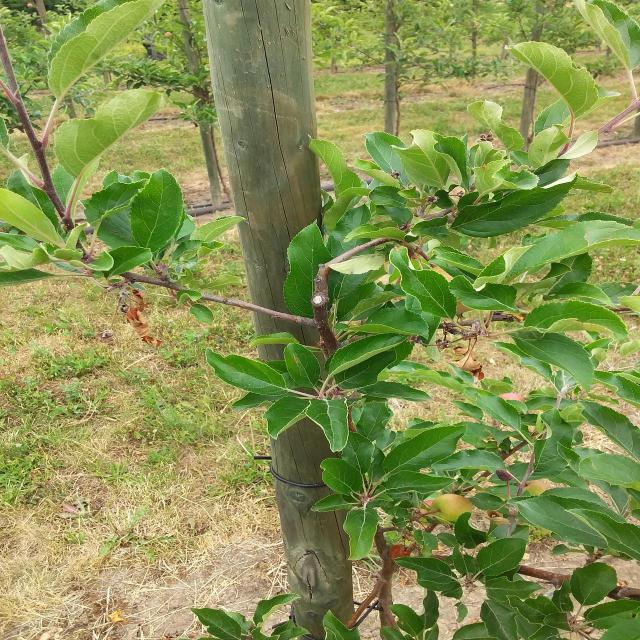-FireBlight-: (106, 280, 162, 350), (452, 334, 484, 387)
